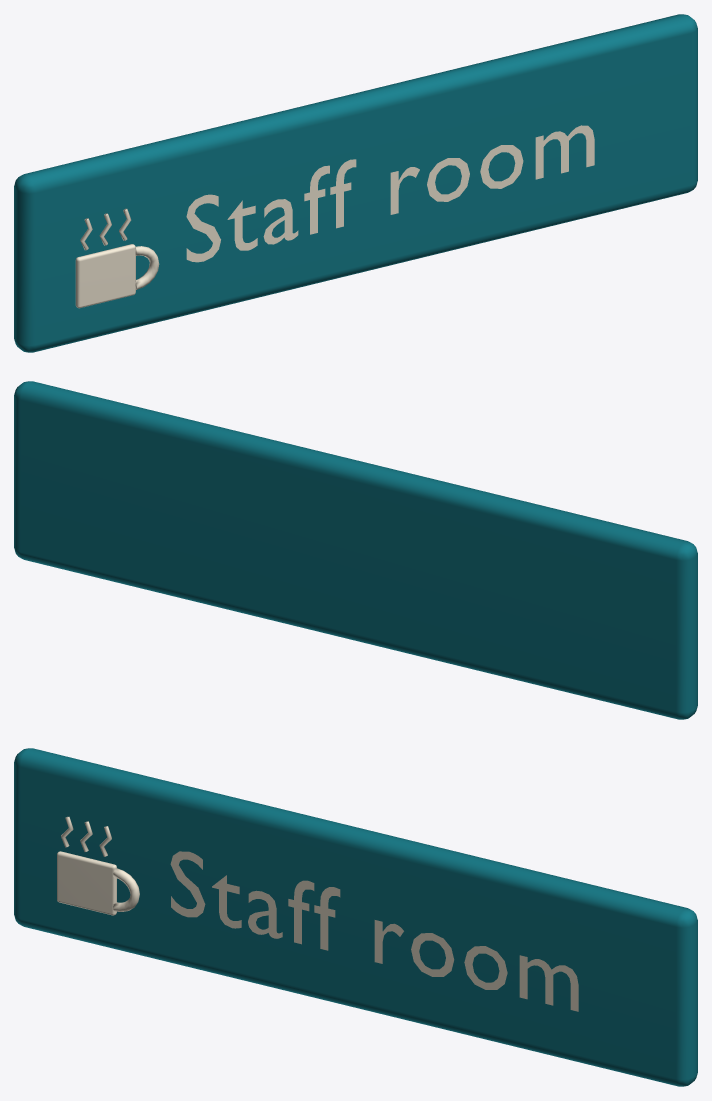
File: Lounge_Staff_Room_Sign.glb
The picture shows the model from 3 angles, top to bottom: view 1: azimuth 30°, elevation 25°; view 2: azimuth 150°, elevation 25°; view 3: azimuth 330°, elevation 25°; orthographic projection.
Visible parts, largest first — view 1: Lounge_Staff_Room_Sign__Visual; view 2: Lounge_Staff_Room_Sign__Visual; view 3: Lounge_Staff_Room_Sign__Visual.
Boxes of the visible parts, x1,y1,x2,y2 form: Lounge_Staff_Room_Sign__Visual: (14,14,697,352); Lounge_Staff_Room_Sign__Visual: (14,381,697,719); Lounge_Staff_Room_Sign__Visual: (14,748,697,1086).
Bounding box in the file's own units: 1.58 × 0.39 × 0.08.
1 material, 1 textured.
